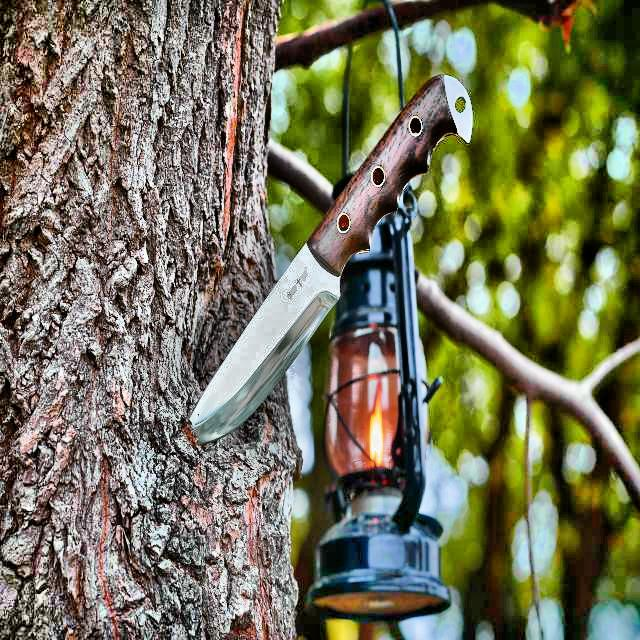knife: (179, 58, 479, 442)
